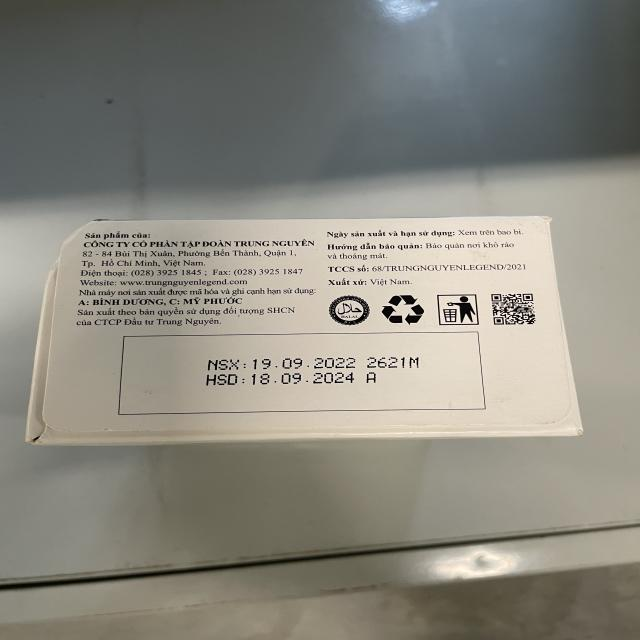object_name: (54, 225, 570, 434)
